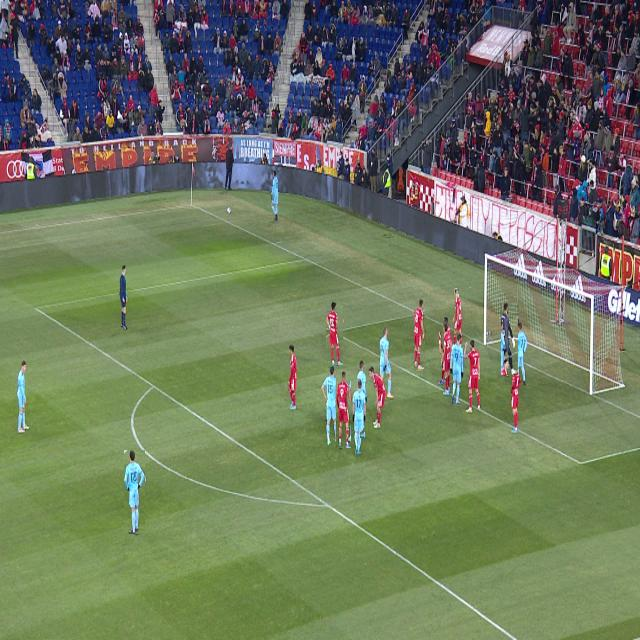goalkeeper: (502, 303, 518, 375)
player: (125, 450, 145, 534), (321, 366, 340, 445), (463, 340, 481, 413), (352, 379, 366, 456), (337, 372, 351, 448), (369, 366, 386, 428), (380, 326, 394, 398), (327, 303, 343, 366), (450, 334, 464, 404), (17, 360, 29, 433), (514, 322, 527, 385), (441, 324, 452, 395), (414, 300, 425, 370), (511, 360, 521, 433), (452, 288, 462, 348), (288, 345, 297, 409), (357, 361, 367, 403), (438, 357, 444, 385), (443, 317, 450, 334), (440, 332, 444, 353), (361, 433, 365, 437)
referee: (120, 266, 128, 331)
